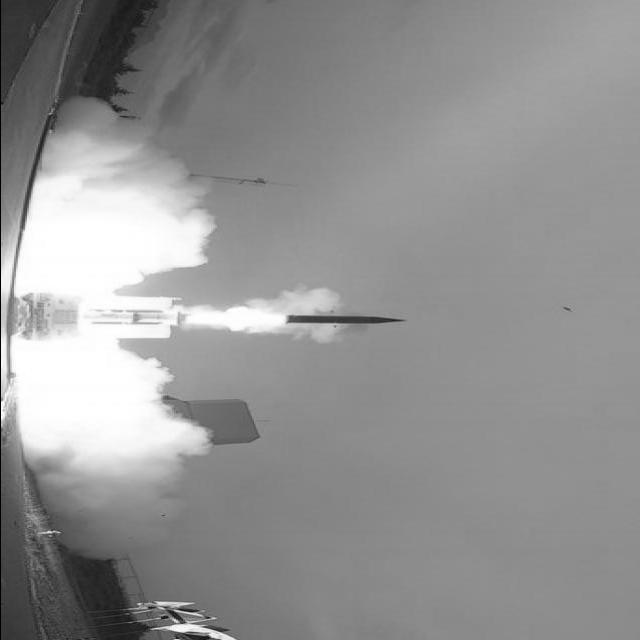missile: (268, 309, 413, 335)
